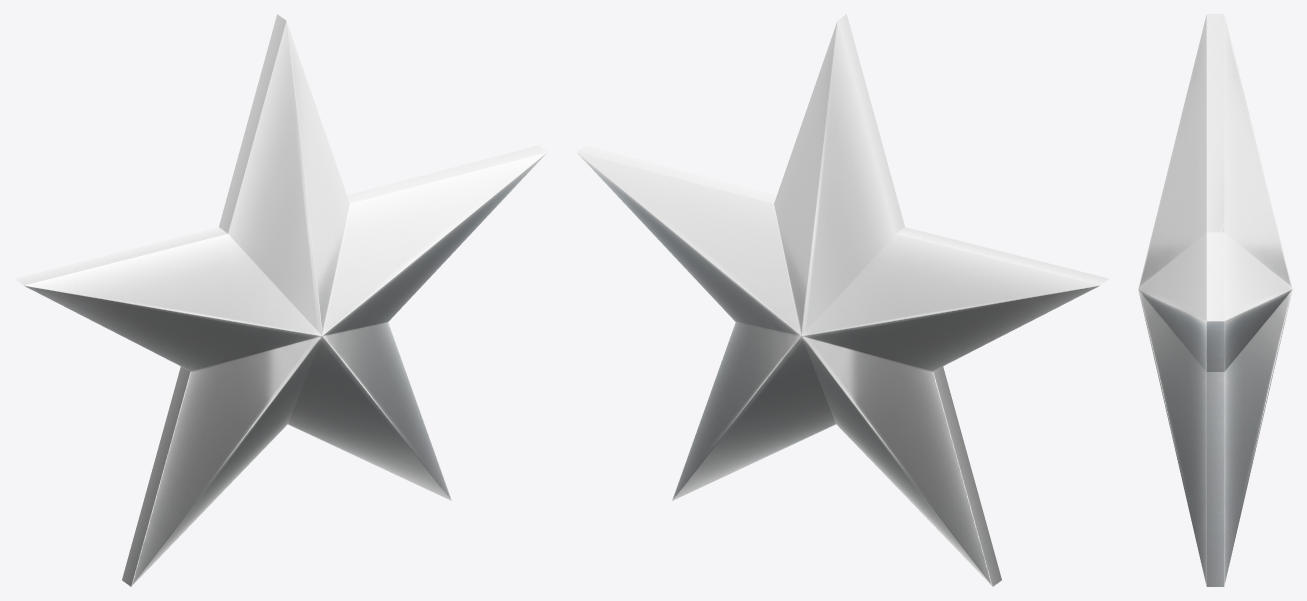
The model's file is Star_Silver.glb.
3 renders of one model, left to right at view 1: azimuth 30°, elevation 25°; view 2: azimuth 150°, elevation 25°; view 3: azimuth 270°, elevation 25°, orthographic. The views are drawn at different scales.
Visible parts, largest first — view 1: Star; view 2: Star; view 3: Star.
Boxes of the visible parts, box(x1,y1,x2,y2) form: Star: box(14, 14, 547, 586); Star: box(576, 14, 1109, 586); Star: box(1138, 14, 1292, 586).
Bounding box in the file's own units: 64.2 × 61.81 × 17.18.
1 material, 1 textured.
